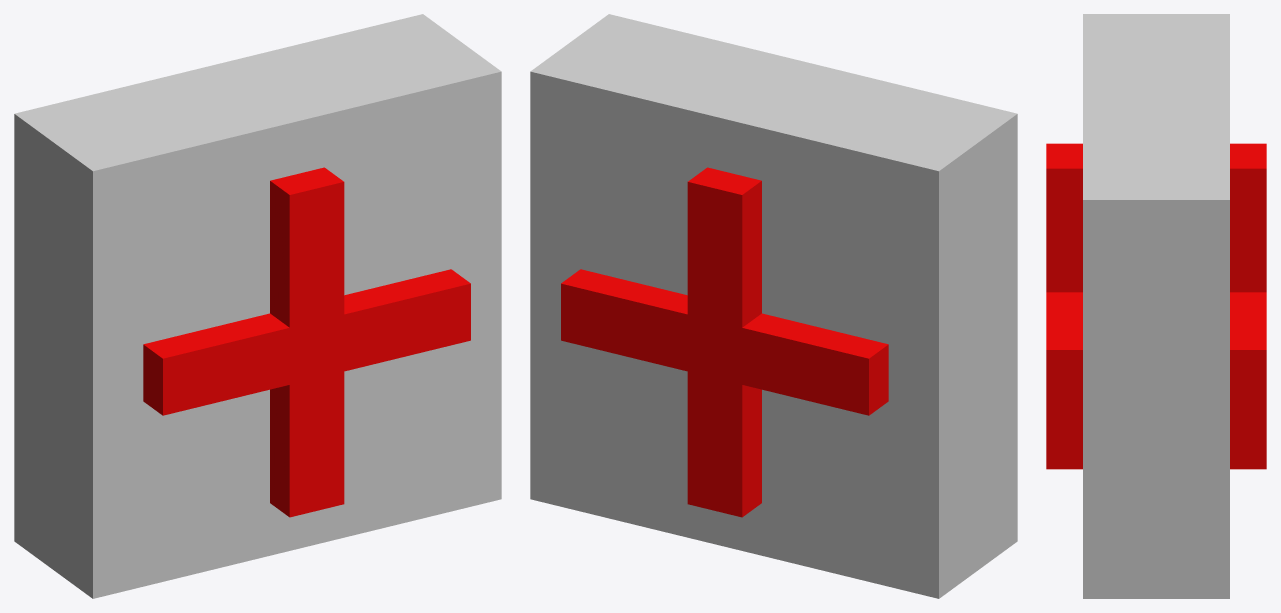
Rendered from HealthPack.FBX.
3 renders of one model, left to right at view 1: azimuth 30°, elevation 25°; view 2: azimuth 150°, elevation 25°; view 3: azimuth 270°, elevation 25°, orthographic. The views are drawn at different scales.
Visible parts, largest first — view 1: Box001; view 2: Box001; view 3: Box001.
Part boxes in pixels (box(x1,y1,x2,y2)): Box001: box(14, 14, 501, 598); Box001: box(530, 14, 1017, 598); Box001: box(1046, 14, 1266, 598).
Size of the model in its own units: 60 by 60 by 30.
